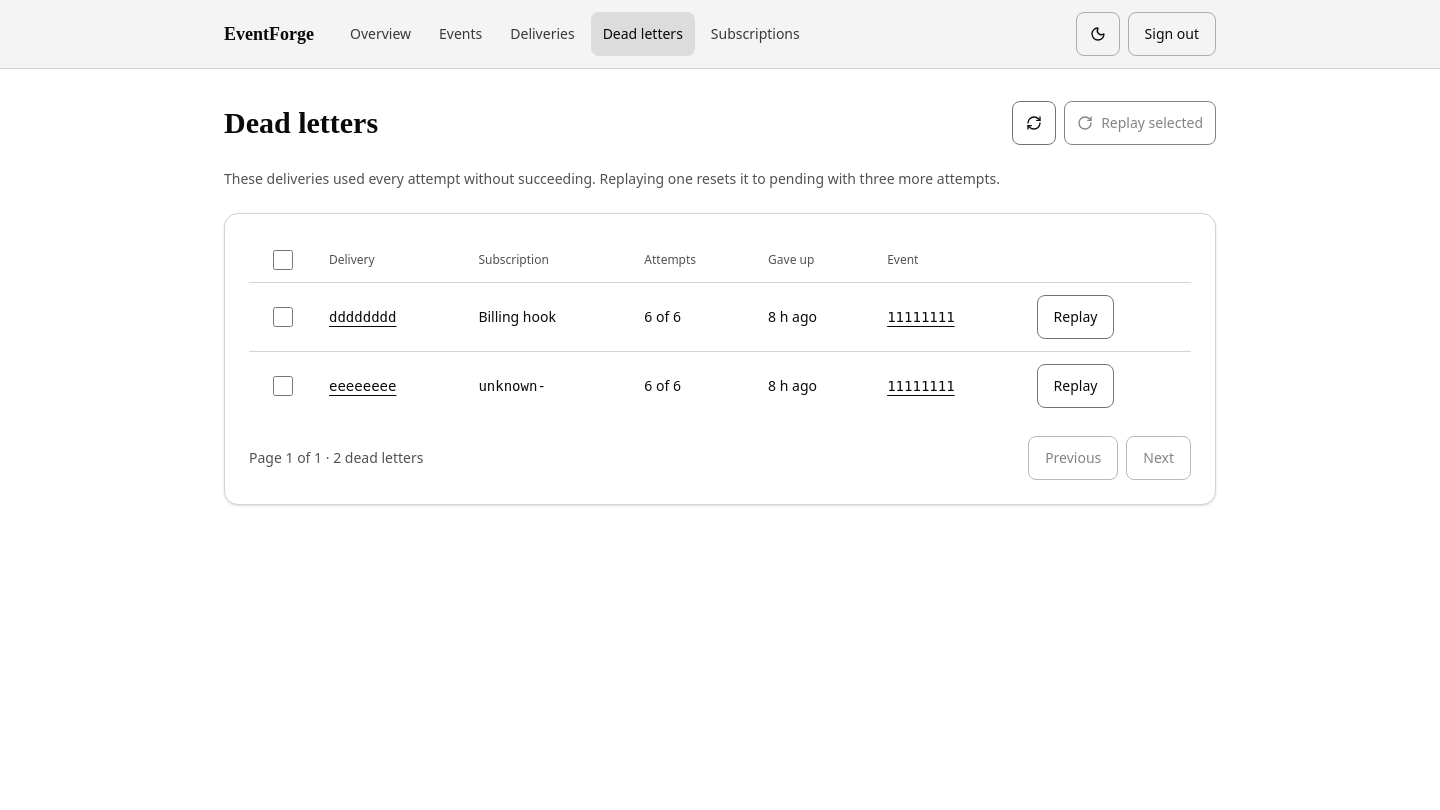
Replaying one delivery › posts to the delivery replay endpoint, reports it and refreshes the list
The image size is (1440, 810).
Click the button with aria-label "Replay delivery dddddddd".
click(1076, 317)  # box [1037,295,1114,339]
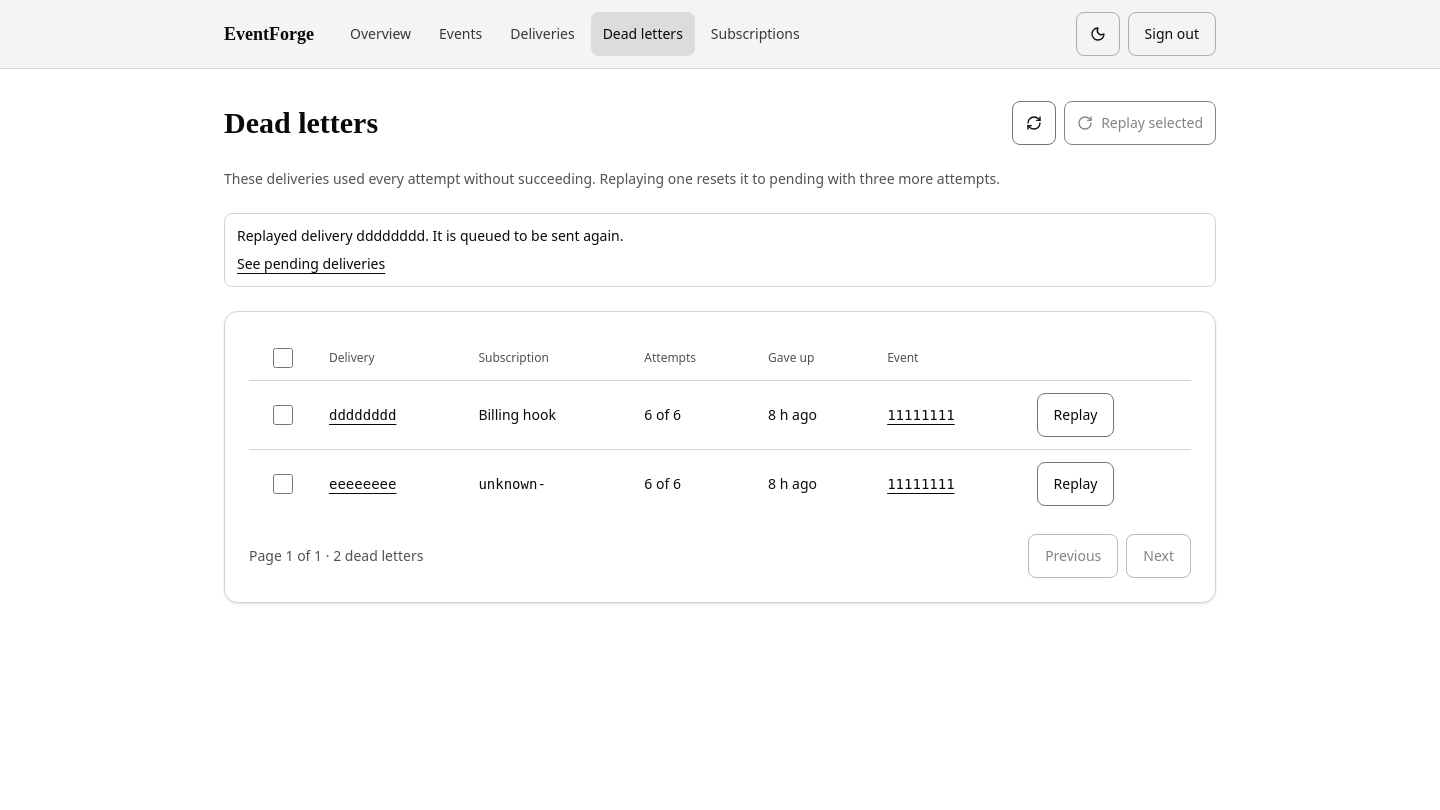
Now the text "Replayed delivery dddddddd. It is queued to be sent again." is shown, box [237,226,624,245]
